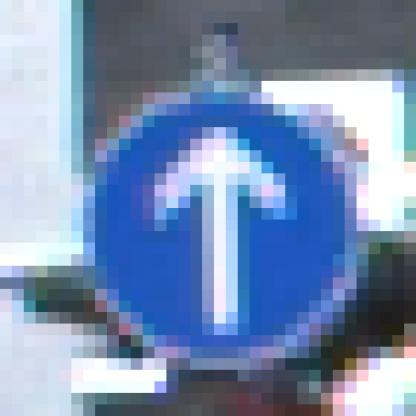AheadOnly: (72, 70, 346, 348)
